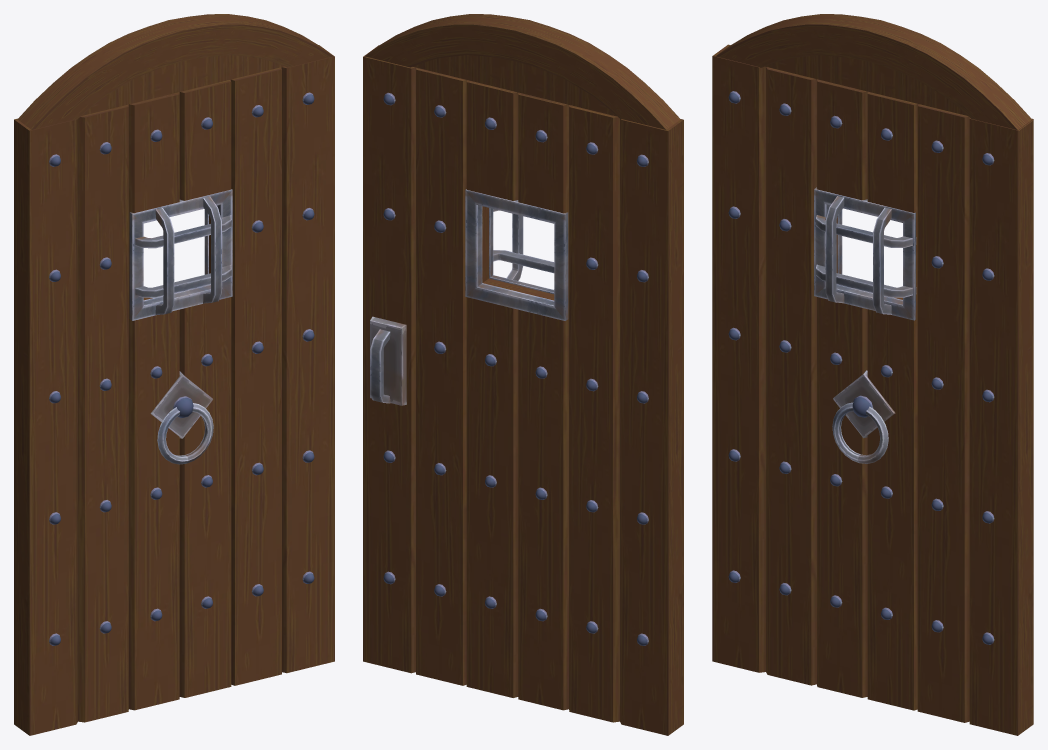
The model's file is Door_2_Round.glb.
The picture shows the model from 3 angles, left to right: view 1: azimuth 30°, elevation 25°; view 2: azimuth 150°, elevation 25°; view 3: azimuth 330°, elevation 25°; orthographic projection.
Visible parts, largest first — view 1: Door_2_Round; view 2: Door_2_Round; view 3: Door_2_Round.
Boxes of the visible parts, <box> form: Door_2_Round: <box>14,14,334,735</box>; Door_2_Round: <box>363,14,683,735</box>; Door_2_Round: <box>712,14,1033,735</box>.
Size of the model in its own units: 1.12 by 2.33 by 0.2608.
2 materials, 2 textured.
